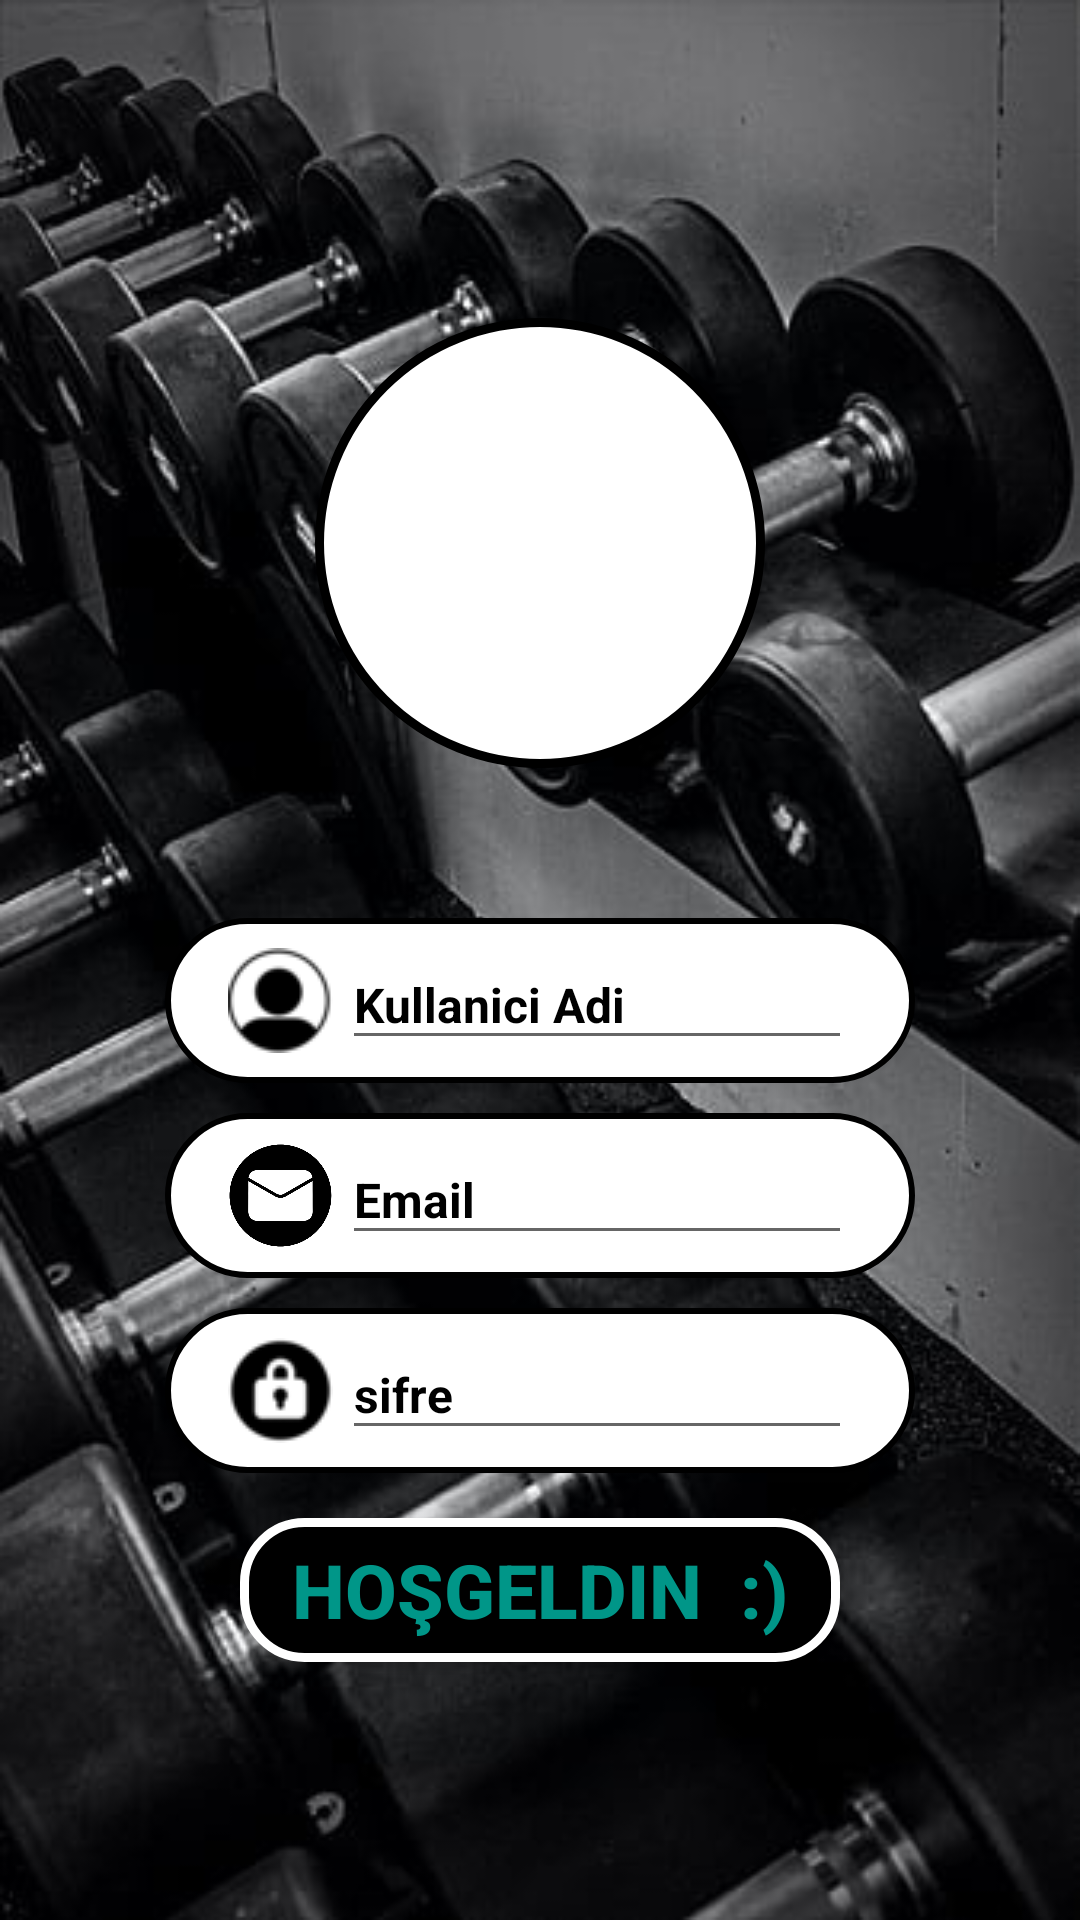

Named icons in this screenshot (1080*1920) and their bounding boxes, (x1, y1, x2, y2):
login password: (230, 1340, 331, 1441)
login person: (228, 948, 331, 1053)
